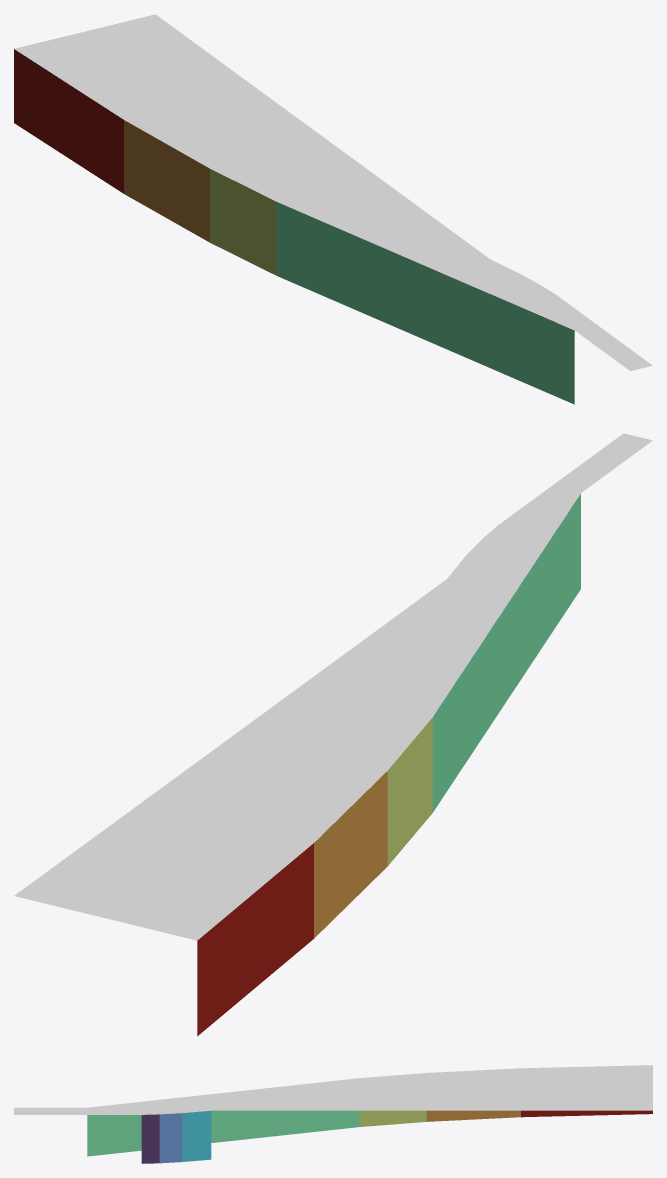
The model's file is scramjet.glb.
3 renders of one model, top to bottom at view 1: azimuth 30°, elevation 25°; view 2: azimuth 150°, elevation 25°; view 3: azimuth 270°, elevation 25°, orthographic. The views are drawn at different scales.
Visible parts, largest first — view 1: Renderer Node; view 2: Renderer Node; view 3: Renderer Node.
Boxes of the visible parts, box(x1,y1,x2,y2) form: Renderer Node: box(14, 14, 652, 404); Renderer Node: box(14, 433, 652, 1036); Renderer Node: box(14, 1065, 652, 1163).
Bounding box in the file's own units: 1.09 × 0.5005 × 5.92.
